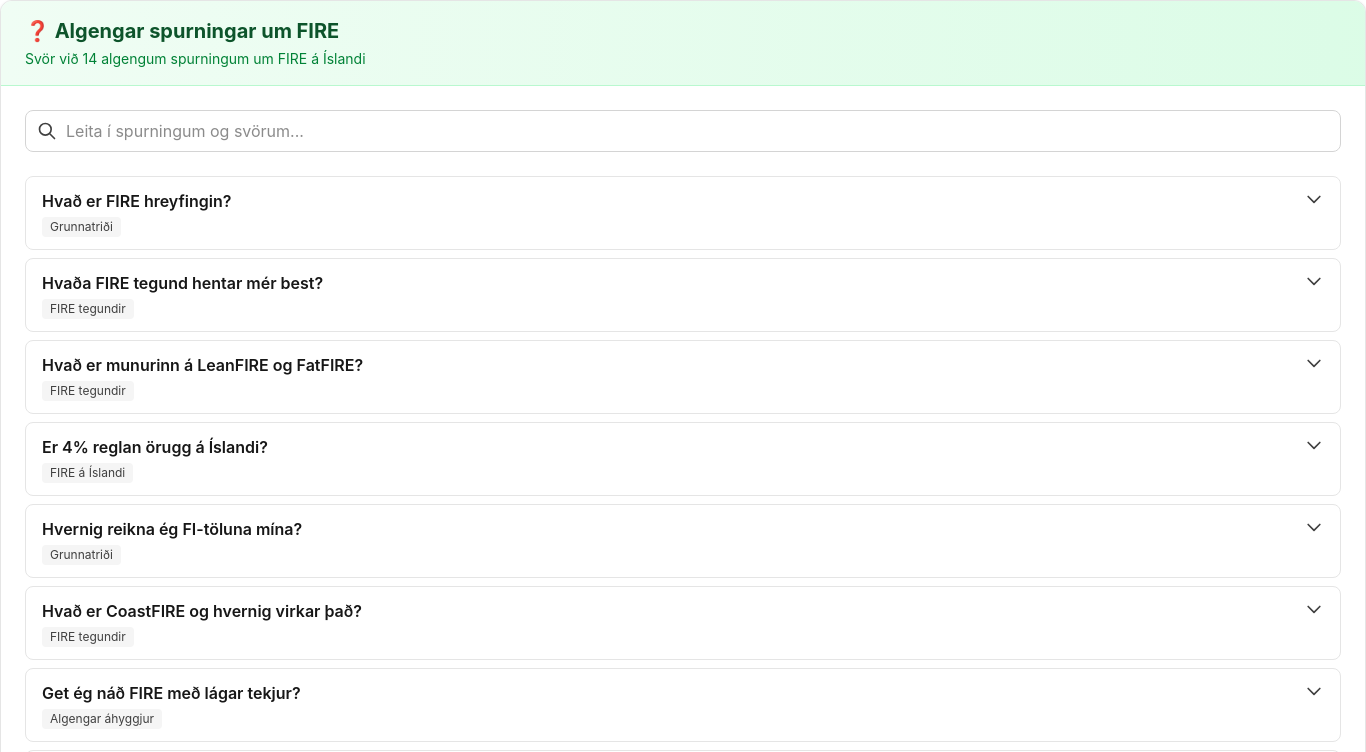
Test: FAQSection › shows "no results" message for non-matching search
Type "xyznotfound123" into the field with placeholder "Leita í spurningum og svörum..." at (683, 131), box [25,110,1341,152]
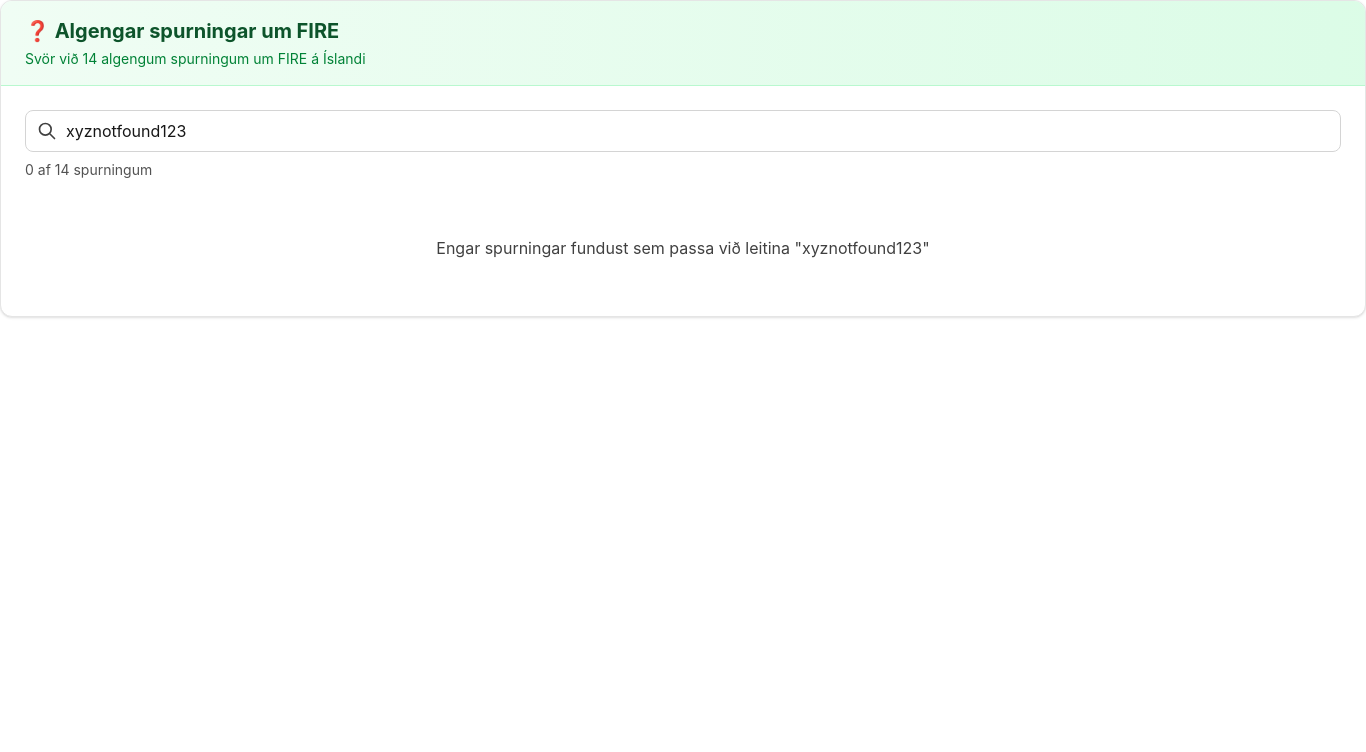
Expected: the text "Engar spurningar fundust" is shown, [436,238,802,258]
